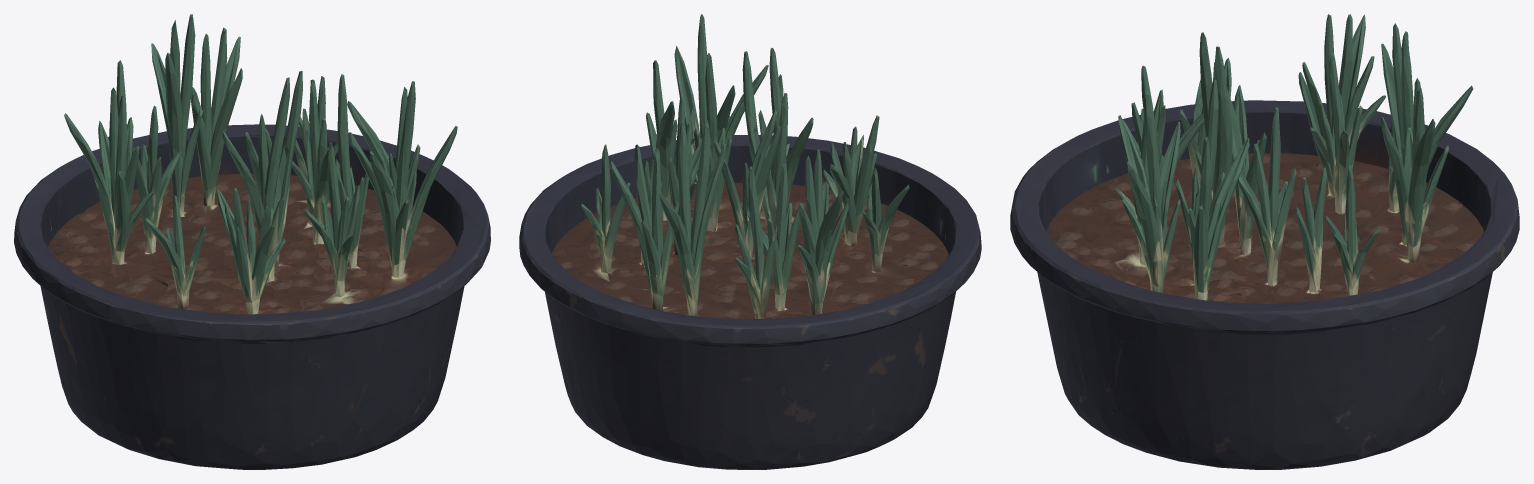
File: basin_planter_onion.glb
3 renders of one model, left to right at view 1: azimuth 30°, elevation 25°; view 2: azimuth 150°, elevation 25°; view 3: azimuth 270°, elevation 25°, orthographic. The views are drawn at different scales.
Parts seen in each view (by area): view 1: basin_planter_onion; view 2: basin_planter_onion; view 3: basin_planter_onion.
Boxes of the visible parts, left/top/right/bottom form: basin_planter_onion: left=14, top=14, right=490, bottom=469; basin_planter_onion: left=519, top=14, right=981, bottom=469; basin_planter_onion: left=1010, top=14, right=1519, bottom=469.
Bounding box in the file's own units: 0.7064 × 0.55 × 0.7062.
Materials: 1 (1 with a texture image).
